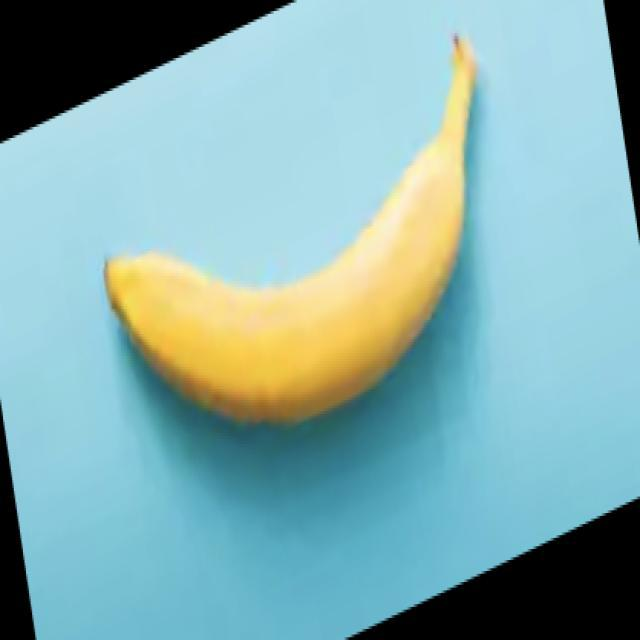Banana: (103, 31, 477, 427)
